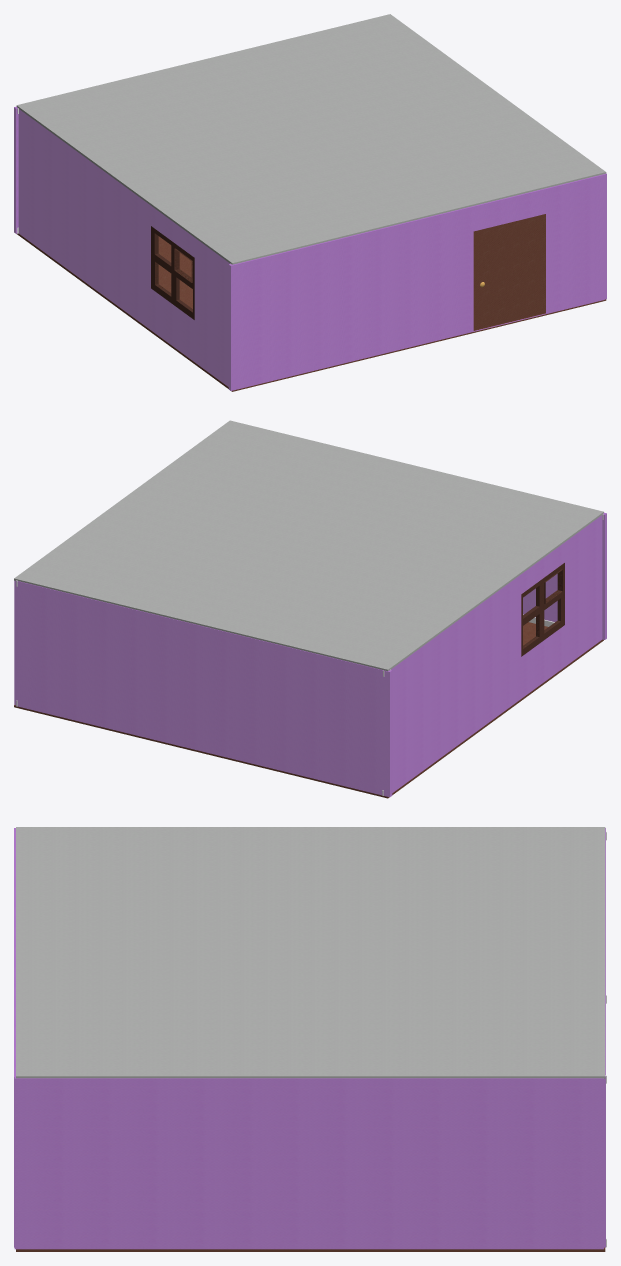
The model's file is CartmansRoom.glb.
The picture shows the model from 3 angles, top to bottom: view 1: azimuth 30°, elevation 25°; view 2: azimuth 150°, elevation 25°; view 3: azimuth 270°, elevation 25°; orthographic projection. The views are drawn at different scales.
Parts seen in each view (by area): view 1: Floor.001, Wall.003, Wall.001, DOOR, Floor, Cube.008, Wall.002; view 2: Floor.001, Wall.002, Wall.001, Cube.008, Floor, Wall.003; view 3: Floor.001, Wall, Floor, Wall.003, Wall.002.
Part boxes in pixels (x1,y1,x2,y2): Floor.001: (16,14,606,264); Wall.003: (228,174,604,390); Wall.001: (18,109,236,386); DOOR: (473,214,545,330); Floor: (17,233,606,391); Cube.008: (151,226,194,319); Wall.002: (14,106,18,233); Floor.001: (14,420,603,671); Wall.002: (16,581,392,797); Wall.001: (391,515,602,792); Cube.008: (521,563,564,656); Floor: (14,622,603,798); Wall.003: (523,512,606,639); Floor.001: (16,827,605,1078); Wall: (14,1076,603,1249); Floor: (16,1247,605,1251); Wall.003: (14,828,15,1247); Wall.002: (604,828,605,1247).
Size of what is drawn, in the model's own units: 20.14 by 6.58 by 20.13.
11 materials, 5 textured.
